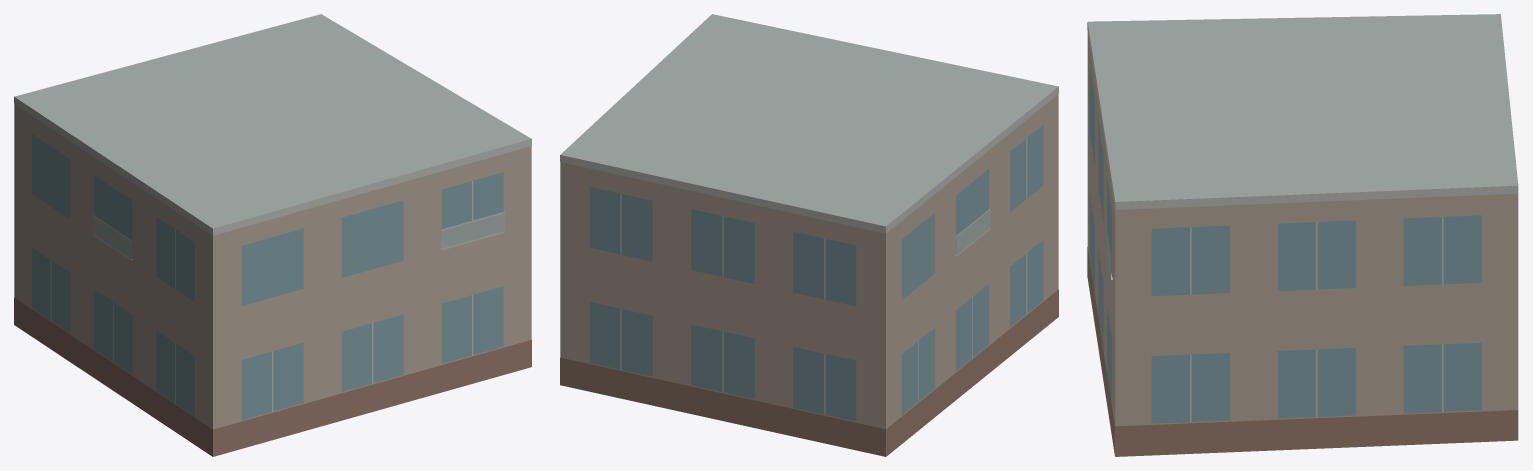
File: survey-upis-33040778.glb
3 renders of one model, left to right at view 1: azimuth 30°, elevation 25°; view 2: azimuth 150°, elevation 25°; view 3: azimuth 270°, elevation 25°, orthographic. The views are drawn at different scales.
Parts seen in each view (by area): view 1: survey-upis-33040778.tmp; view 2: survey-upis-33040778.tmp; view 3: survey-upis-33040778.tmp.
Boxes of the visible parts, left/top/right/bottom form: survey-upis-33040778.tmp: left=14, top=14, right=531, bottom=456; survey-upis-33040778.tmp: left=560, top=14, right=1058, bottom=456; survey-upis-33040778.tmp: left=1087, top=14, right=1518, bottom=456.
Size of the model in its own units: 12.35 by 7.8 by 11.96.
